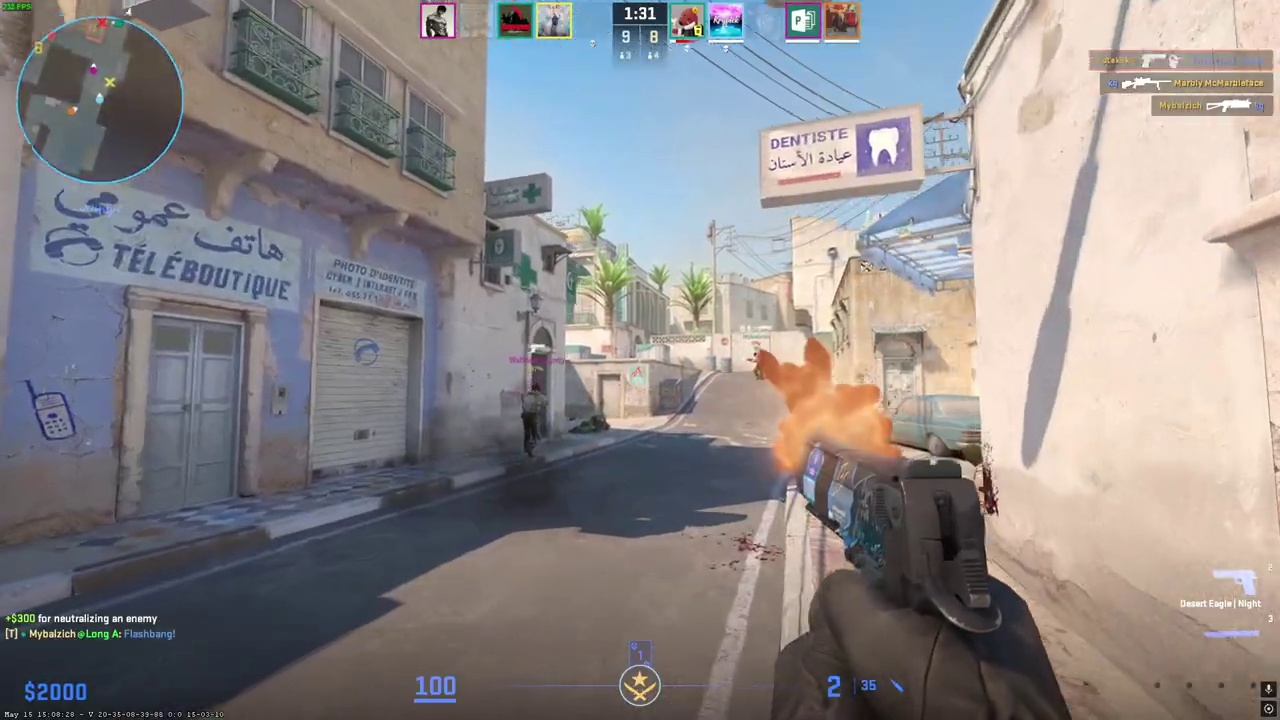Terrorist: (520, 383, 547, 458), (749, 350, 763, 380)
